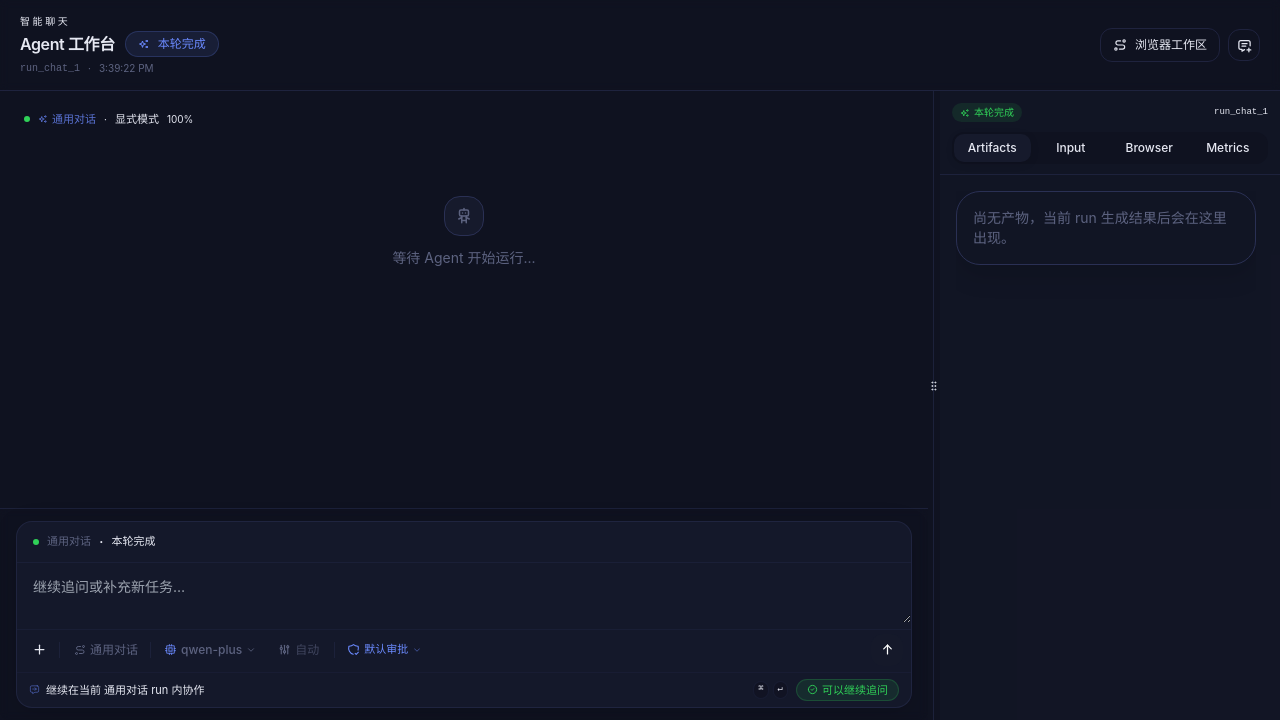
Test: ChatPage › reconnects the run stream when a completed run becomes active again after a follow-up
Type "第二轮追问" into the text box with placeholder "继续追问或补充新任务…". click: (464,592)
box: [17,562,911,622]
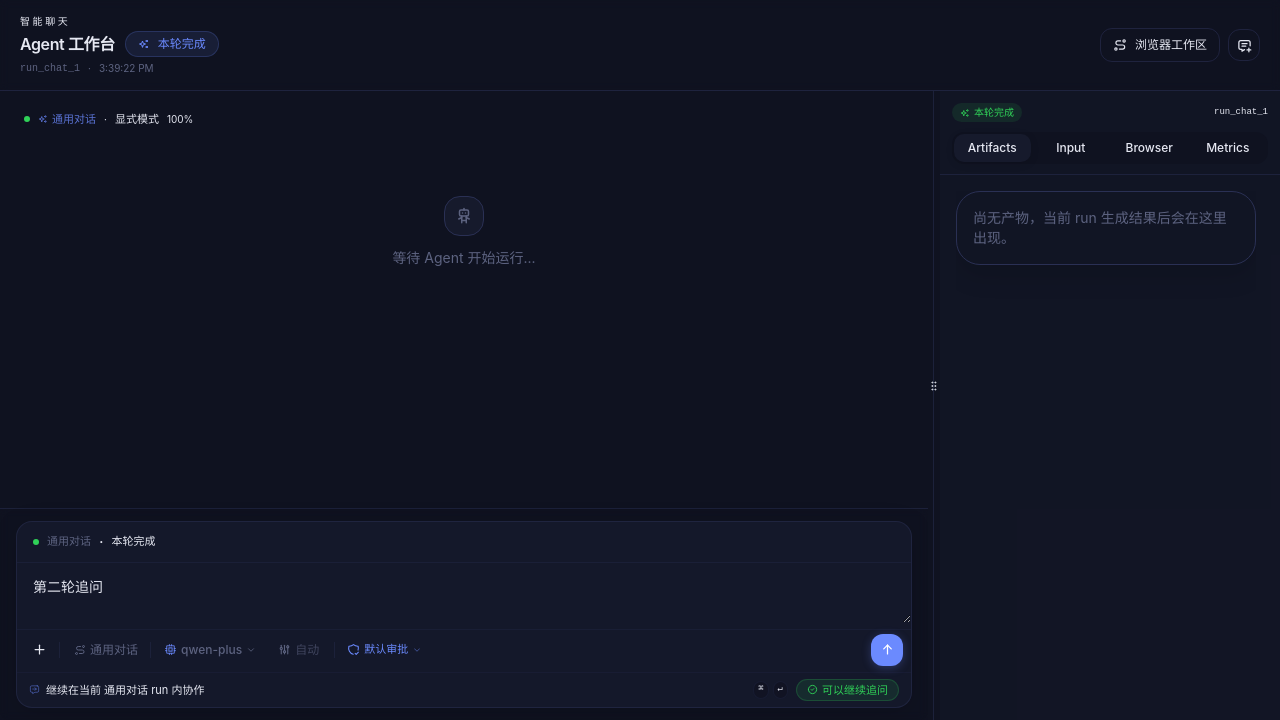
Click the button named "发送". click: (887,650)
box: [871,634,903,666]
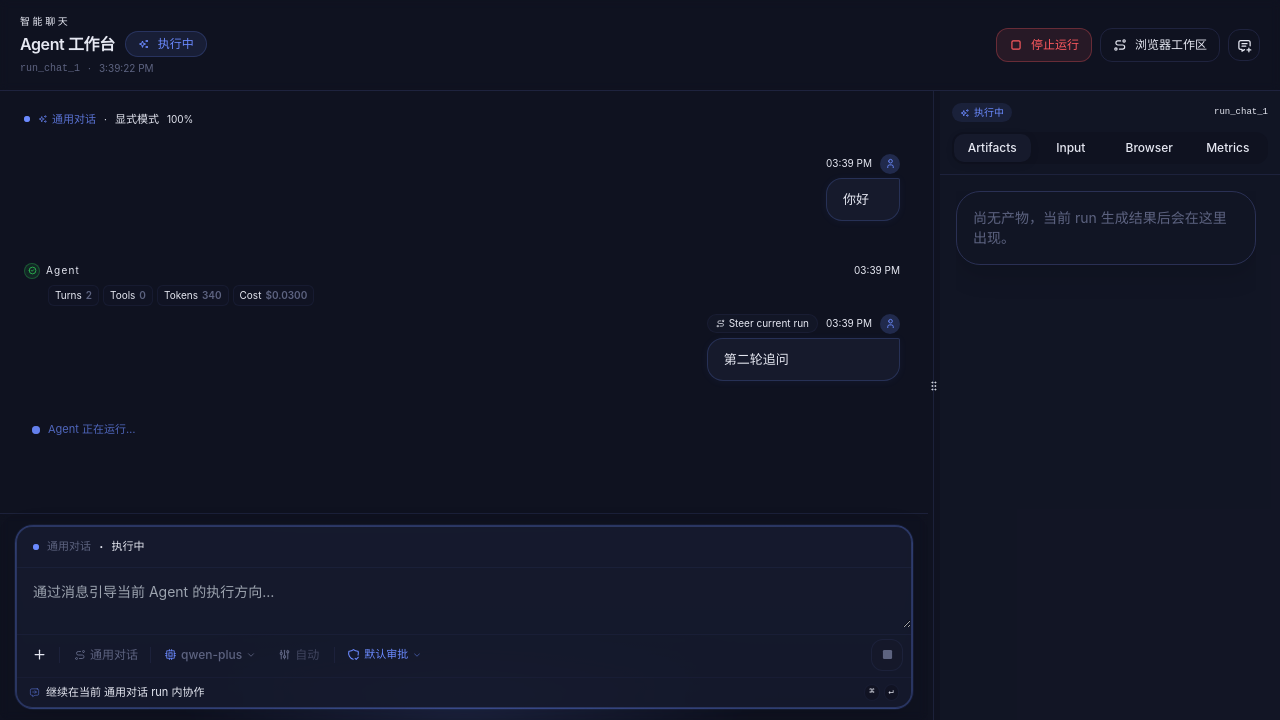
Check: the text "第二轮追问" is shown, box [724,351,789,367]
